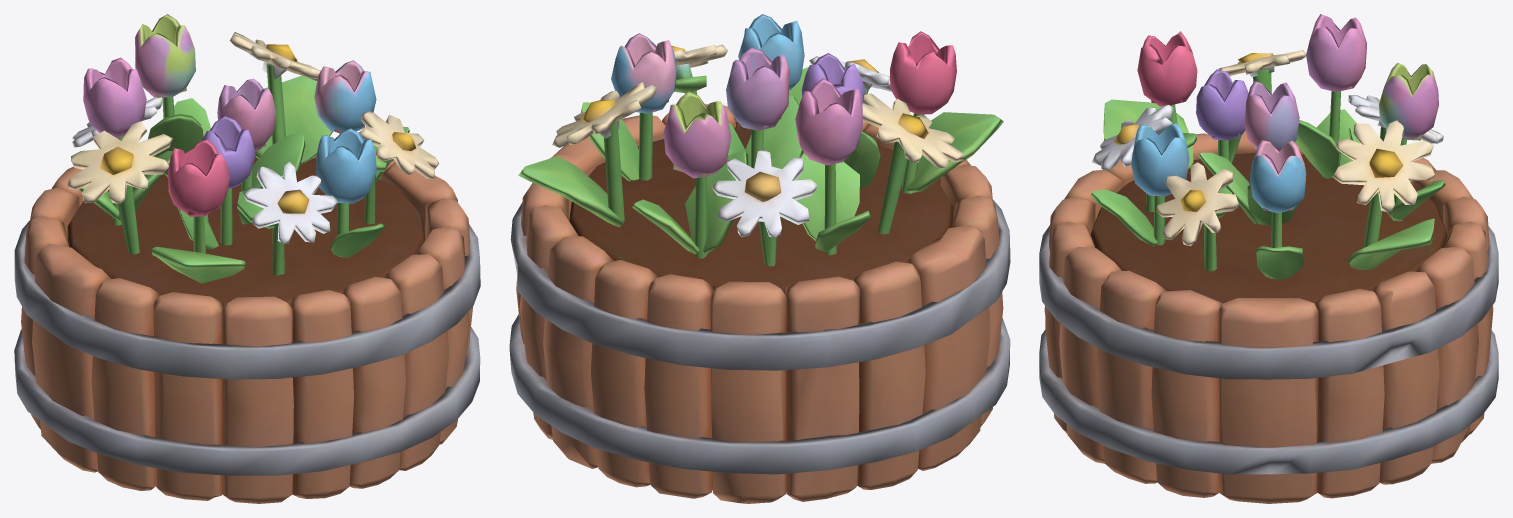
Rendered from garden-flowerbed.glb.
The picture shows the model from 3 angles, left to right: view 1: azimuth 30°, elevation 25°; view 2: azimuth 150°, elevation 25°; view 3: azimuth 270°, elevation 25°; orthographic projection. The views are drawn at different scales.
Parts seen in each view (by area): view 1: geometry_0; view 2: geometry_0; view 3: geometry_0.
Part boxes in pixels (x1,y1,x2,y2): geometry_0: (14,14,480,503); geometry_0: (509,14,1010,503); geometry_0: (1039,14,1498,503).
Size of the model in its own units: 1 by 0.8401 by 1.
1 material, 1 textured.
